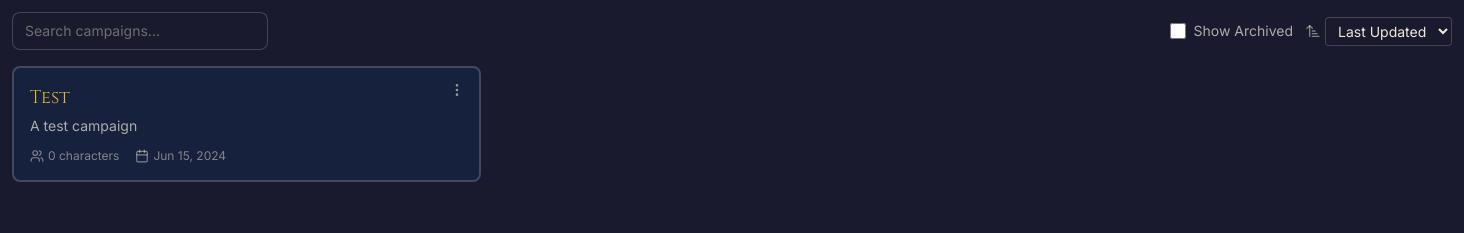
Test: CampaignList › shows no results message when search has no matches
The image size is (1464, 233).
In the field with placeholder "Search campaigns...": (140, 31) [12,12,268,50], type "nonexistent"
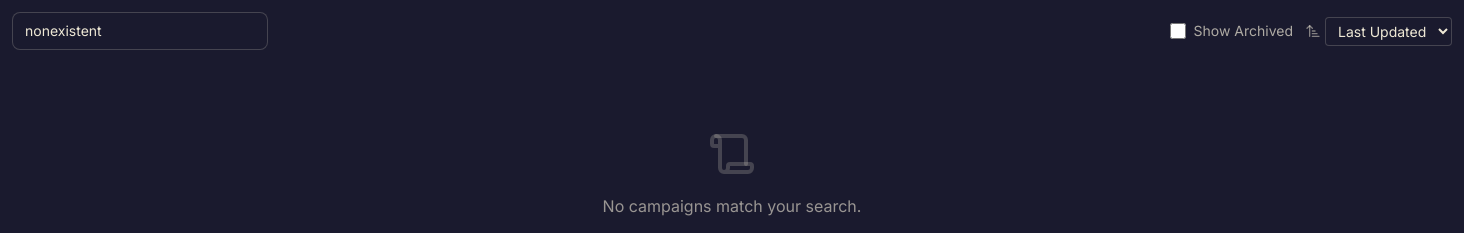
Check: the text "No campaigns match your search." is shown, box [603,196,861,216]
